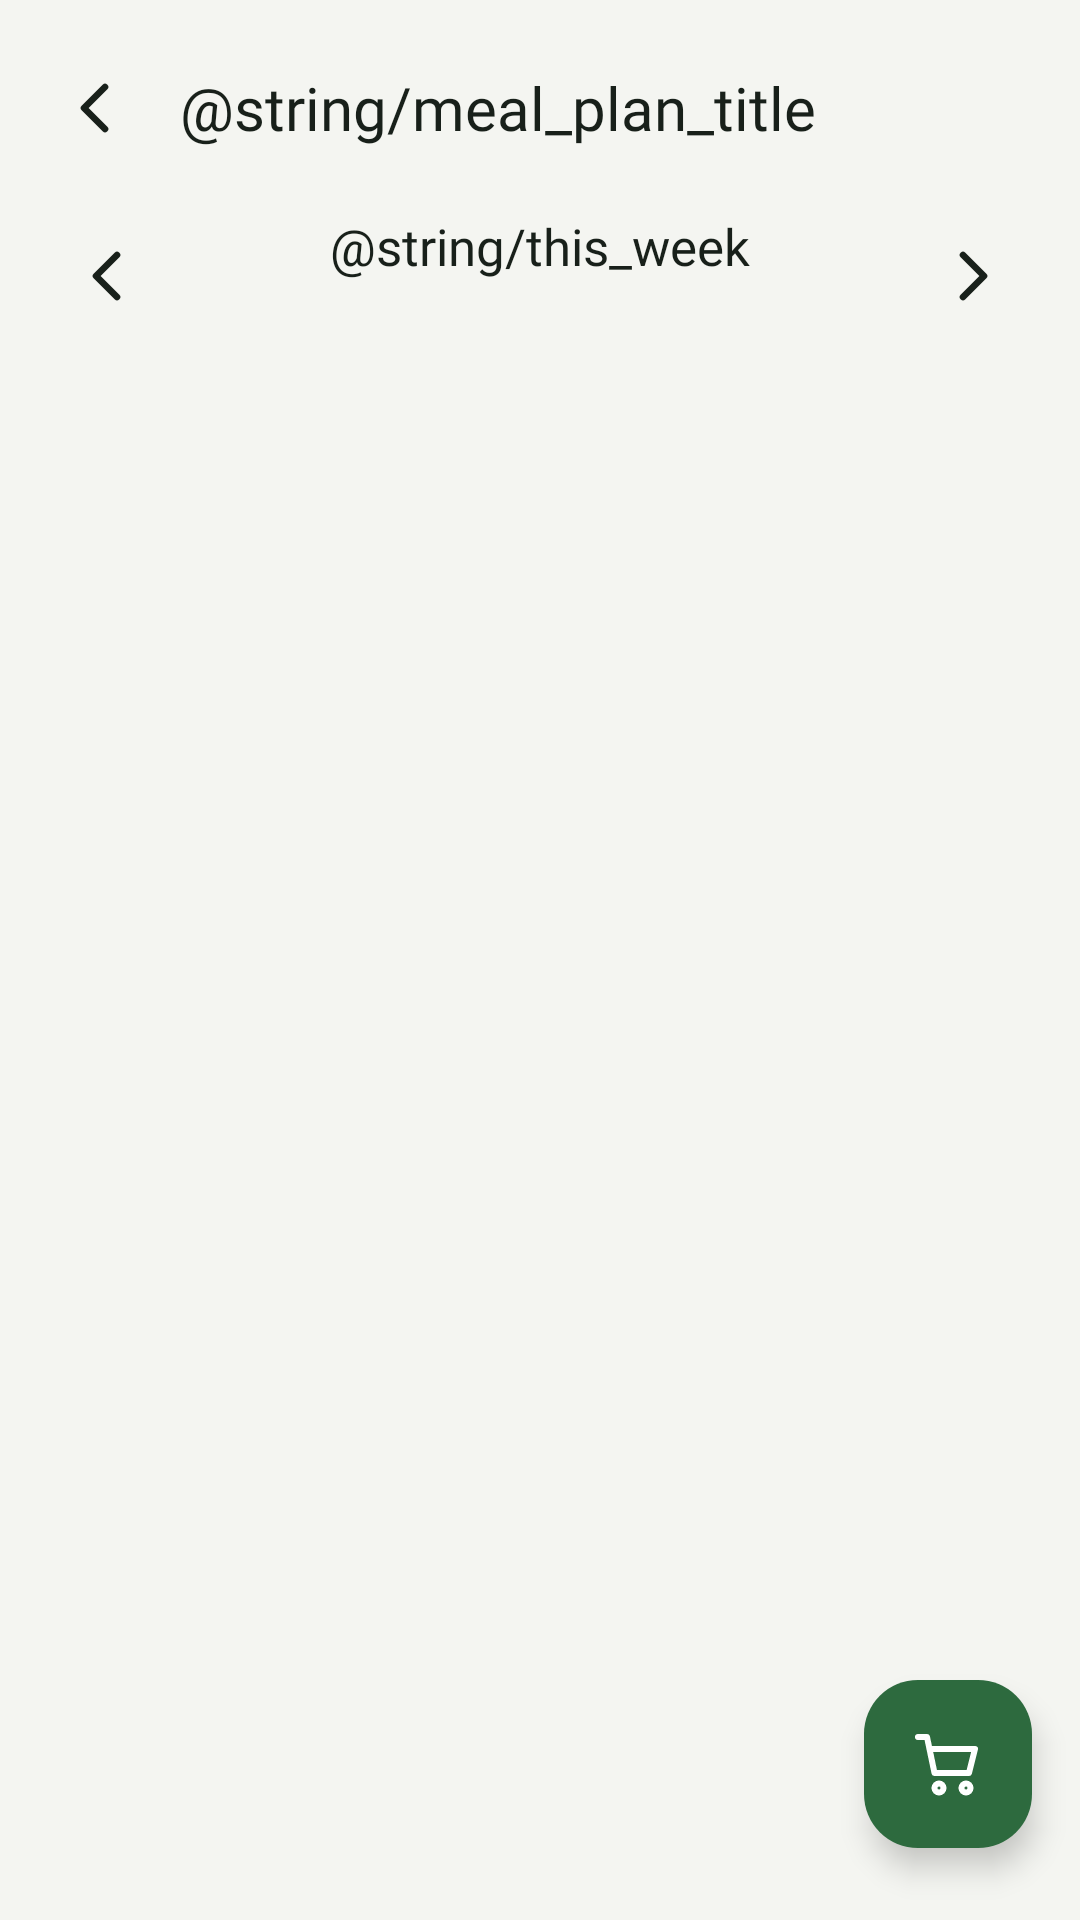

Named icons in this screenshot (1080x1920) and their centers, [x,y]:
back: [94,108], [106,276]
cart: [948,1764]
chevron right: [973,276]
